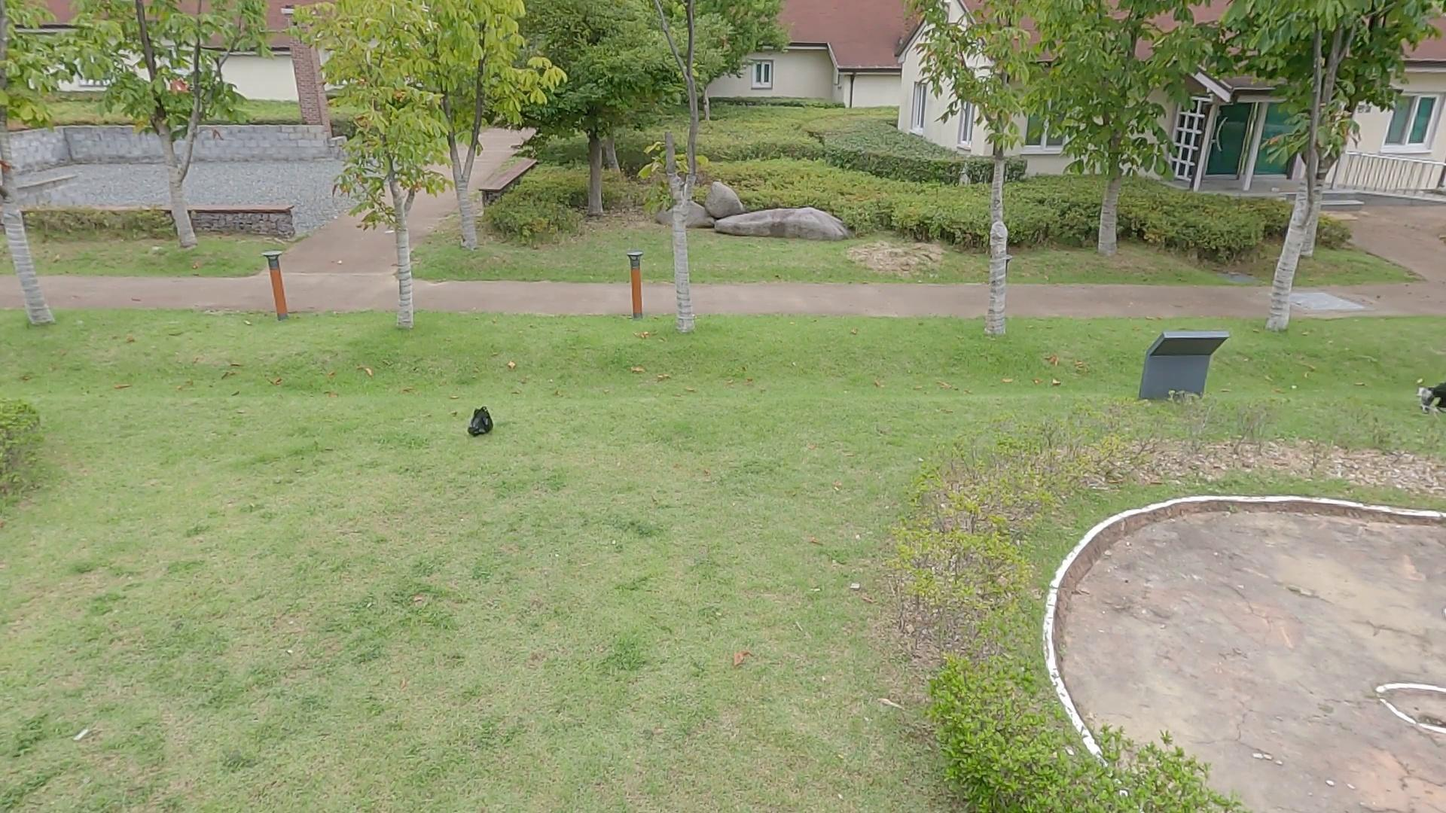trash: (463, 401, 494, 437)
